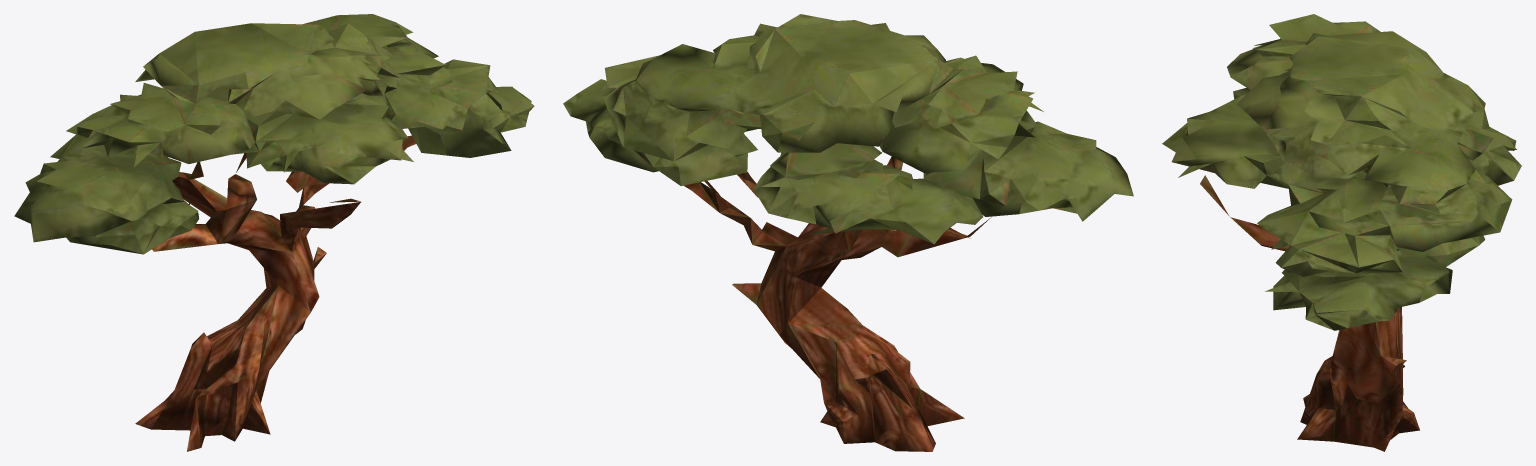
File: copa_plana.glb
3 renders of one model, left to right at view 1: azimuth 30°, elevation 25°; view 2: azimuth 150°, elevation 25°; view 3: azimuth 270°, elevation 25°, orthographic. The views are drawn at different scales.
Visible parts, largest first — view 1: output_unwrapped; view 2: output_unwrapped; view 3: output_unwrapped.
Boxes of the visible parts, x1,y1,x2,y2 form: output_unwrapped: (14, 14, 534, 451); output_unwrapped: (563, 14, 1133, 451); output_unwrapped: (1162, 14, 1521, 451).
Size of the model in its own units: 1.88 by 1.26 by 1.07.
Materials: 1 (1 with a texture image).
